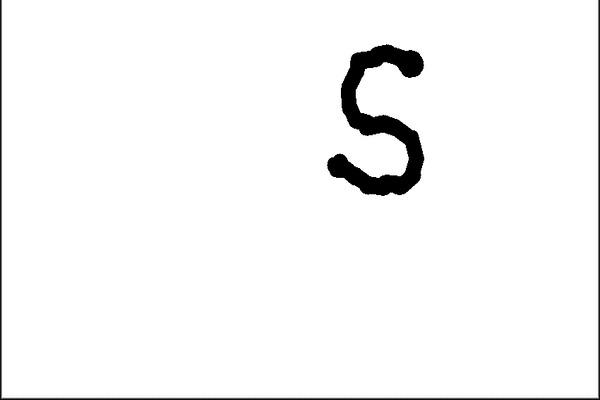S: (327, 38, 435, 208)
